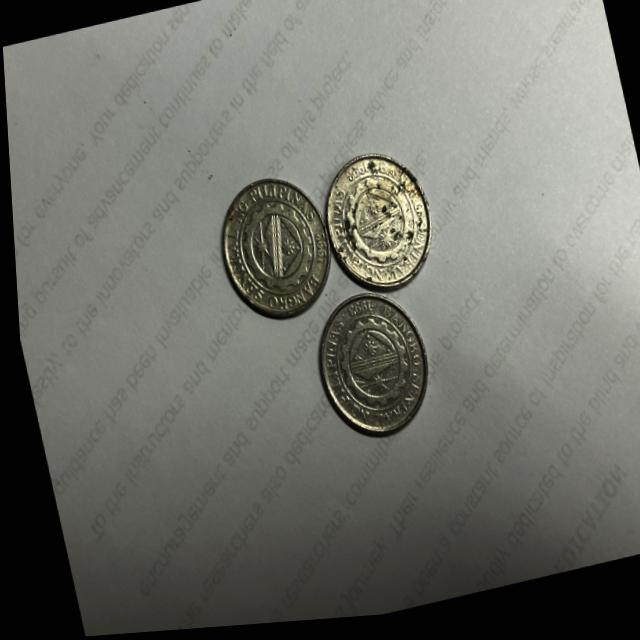1_Old_Back: (326, 168, 428, 291), (318, 310, 421, 428), (222, 190, 322, 308)
